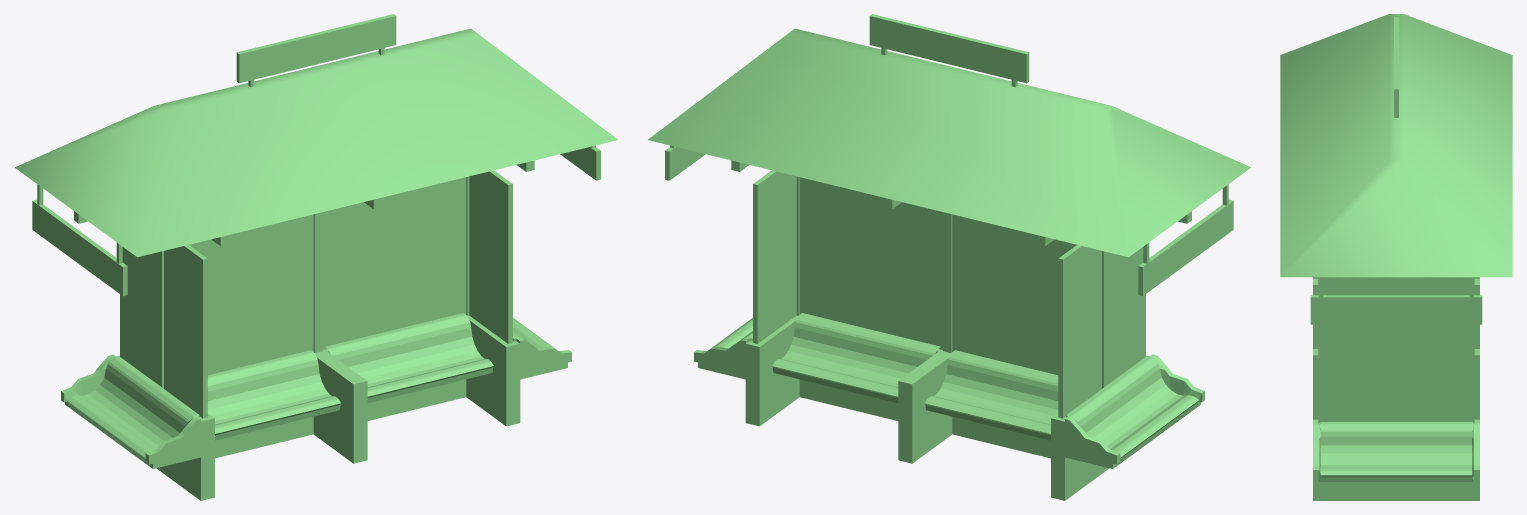
The model's file is StopCollider.fbx.
3 views of the same model, side by side, from view 1: azimuth 30°, elevation 25°; view 2: azimuth 150°, elevation 25°; view 3: azimuth 270°, elevation 25° (orthographic). The views are drawn at different scales.
Parts seen in each view (by area): view 1: Stop Collider; view 2: Stop Collider; view 3: Stop Collider.
Boxes of the visible parts, x1,y1,x2,y2 form: Stop Collider: [15, 14, 617, 500]; Stop Collider: [648, 14, 1250, 500]; Stop Collider: [1280, 14, 1512, 500].
Size of the model in its own units: 520 by 409 by 230.
